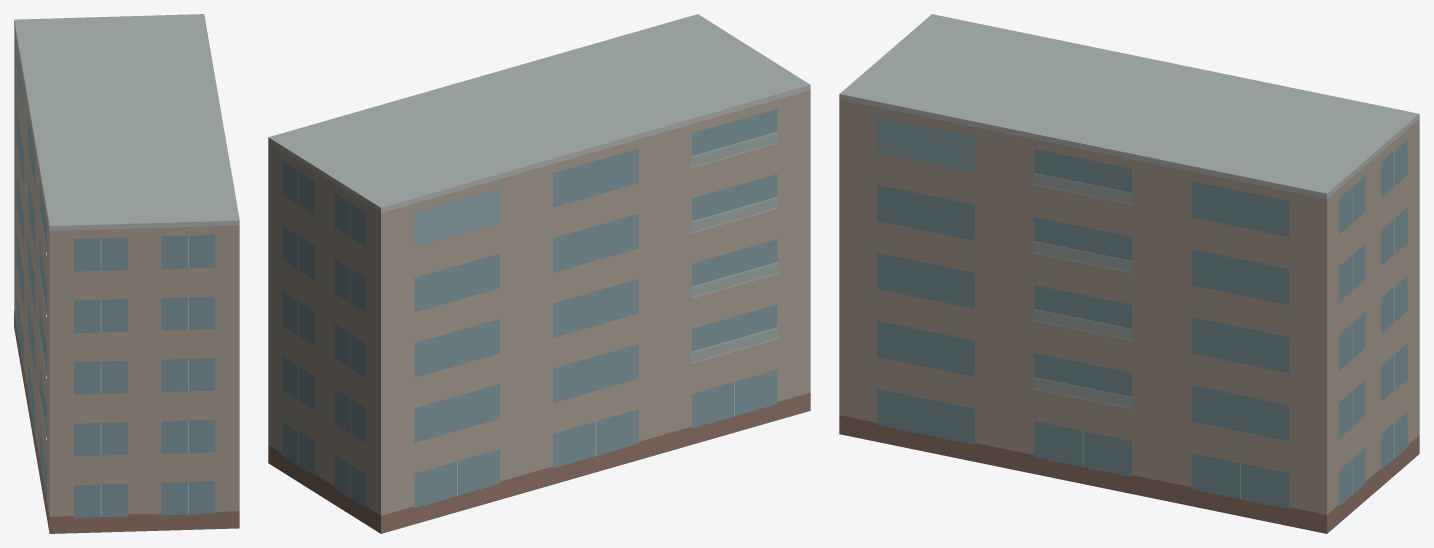
Rendered from survey-upis-32524637.glb.
The picture shows the model from 3 angles, left to right: view 1: azimuth 30°, elevation 25°; view 2: azimuth 150°, elevation 25°; view 3: azimuth 270°, elevation 25°; orthographic projection. The views are drawn at different scales.
Visible parts, largest first — view 1: survey-upis-32524637.tmp; view 2: survey-upis-32524637.tmp; view 3: survey-upis-32524637.tmp.
Boxes of the visible parts, x1,y1,x2,y2 form: survey-upis-32524637.tmp: (14, 14, 239, 533); survey-upis-32524637.tmp: (268, 14, 810, 533); survey-upis-32524637.tmp: (839, 14, 1419, 533).
Size of the model in its own units: 17.29 by 15.25 by 23.58.
